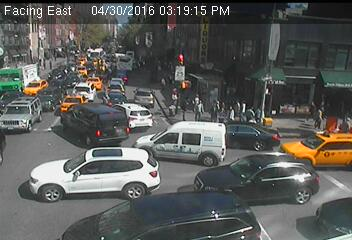neg: (291, 179, 324, 223), (77, 92, 102, 126), (179, 188, 203, 219), (189, 51, 210, 79), (133, 51, 153, 78), (10, 205, 30, 232), (302, 41, 321, 66), (251, 192, 270, 217), (75, 151, 93, 176), (58, 98, 76, 122), (32, 149, 50, 173), (16, 105, 34, 128), (8, 22, 26, 45), (1, 135, 17, 158), (113, 95, 129, 117), (101, 94, 117, 115), (226, 65, 242, 86), (274, 41, 289, 61), (127, 123, 142, 142), (117, 47, 132, 66), (135, 85, 148, 104), (8, 58, 21, 76), (45, 100, 58, 117), (236, 39, 248, 55), (184, 29, 195, 44), (138, 29, 148, 43), (224, 34, 233, 46), (25, 30, 32, 40)
pos: (174, 93, 195, 122), (222, 102, 242, 129), (334, 115, 351, 146), (253, 103, 272, 129), (191, 98, 209, 122), (156, 73, 174, 97), (206, 100, 223, 123), (311, 107, 328, 129), (306, 100, 322, 121), (33, 55, 45, 71), (44, 56, 55, 71)
